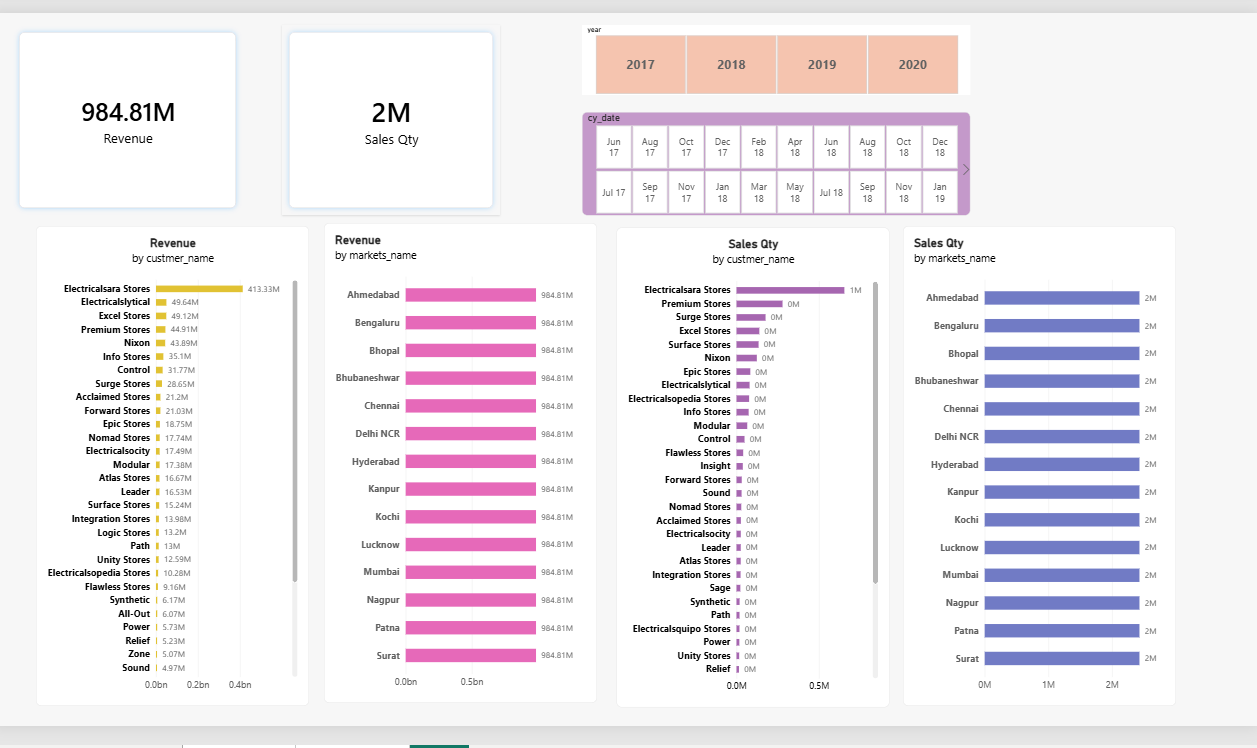

The page's visual inventory and layout, read from the dashboard file:
{"tool":"powerbi","page":{"name":"Page 1","canvas":[1920,1080],"ordinal":0},"visuals":[{"type":"cardVisual","fields":{"Data":["base measures.Sales Qty"]},"box":[440,18,330,288],"z":1},{"type":"barChart","fields":{"Category":["sales customers.custmer_name"],"Y":["base measures.Revenue"]},"box":[68,322,413.4,726.8],"z":2},{"type":"barChart","fields":{"Category":["sales customers.custmer_name"],"Y":["base measures.Sales Qty"]},"box":[946,324,413.4,726.8],"z":3},{"type":"cardVisual","fields":{"Data":["base measures.Revenue"]},"box":[32,18,350,288],"z":4},{"type":"slicer","fields":{"Values":["sales date.year"]},"box":[894,18,588,106],"z":5},{"type":"slicer","fields":{"Values":["sales date.cy_date"]},"box":[894.9,149.9,588.3,156.7],"z":6},{"type":"clusteredBarChart","fields":{"Category":["sales markets.markets_name"],"Y":["base measures.Revenue"]},"box":[504,318,413.4,726.8],"z":7},{"type":"barChart","fields":{"Category":["sales markets.markets_name"],"Y":["base measures.Sales Qty"]},"box":[1382,322,413.4,726.8],"z":8}]}

Visuals, with their boxes on the page's 1920x1080 design canvas (x1, y1, x2, y2). These are canvas units, not pixel positions in the 1257x748 screenshot, which may show the page scaled, cropped or inside an application window:
cardVisual - base measures.Sales Qty: region(440, 18, 770, 306)
barChart - sales customers.custmer_name x base measures.Revenue: region(68, 322, 481, 1049)
barChart - sales customers.custmer_name x base measures.Sales Qty: region(946, 324, 1359, 1051)
cardVisual - base measures.Revenue: region(32, 18, 382, 306)
slicer - sales date.year: region(894, 18, 1482, 124)
slicer - sales date.cy_date: region(895, 150, 1483, 307)
clusteredBarChart - sales markets.markets_name x base measures.Revenue: region(504, 318, 917, 1045)
barChart - sales markets.markets_name x base measures.Sales Qty: region(1382, 322, 1795, 1049)
